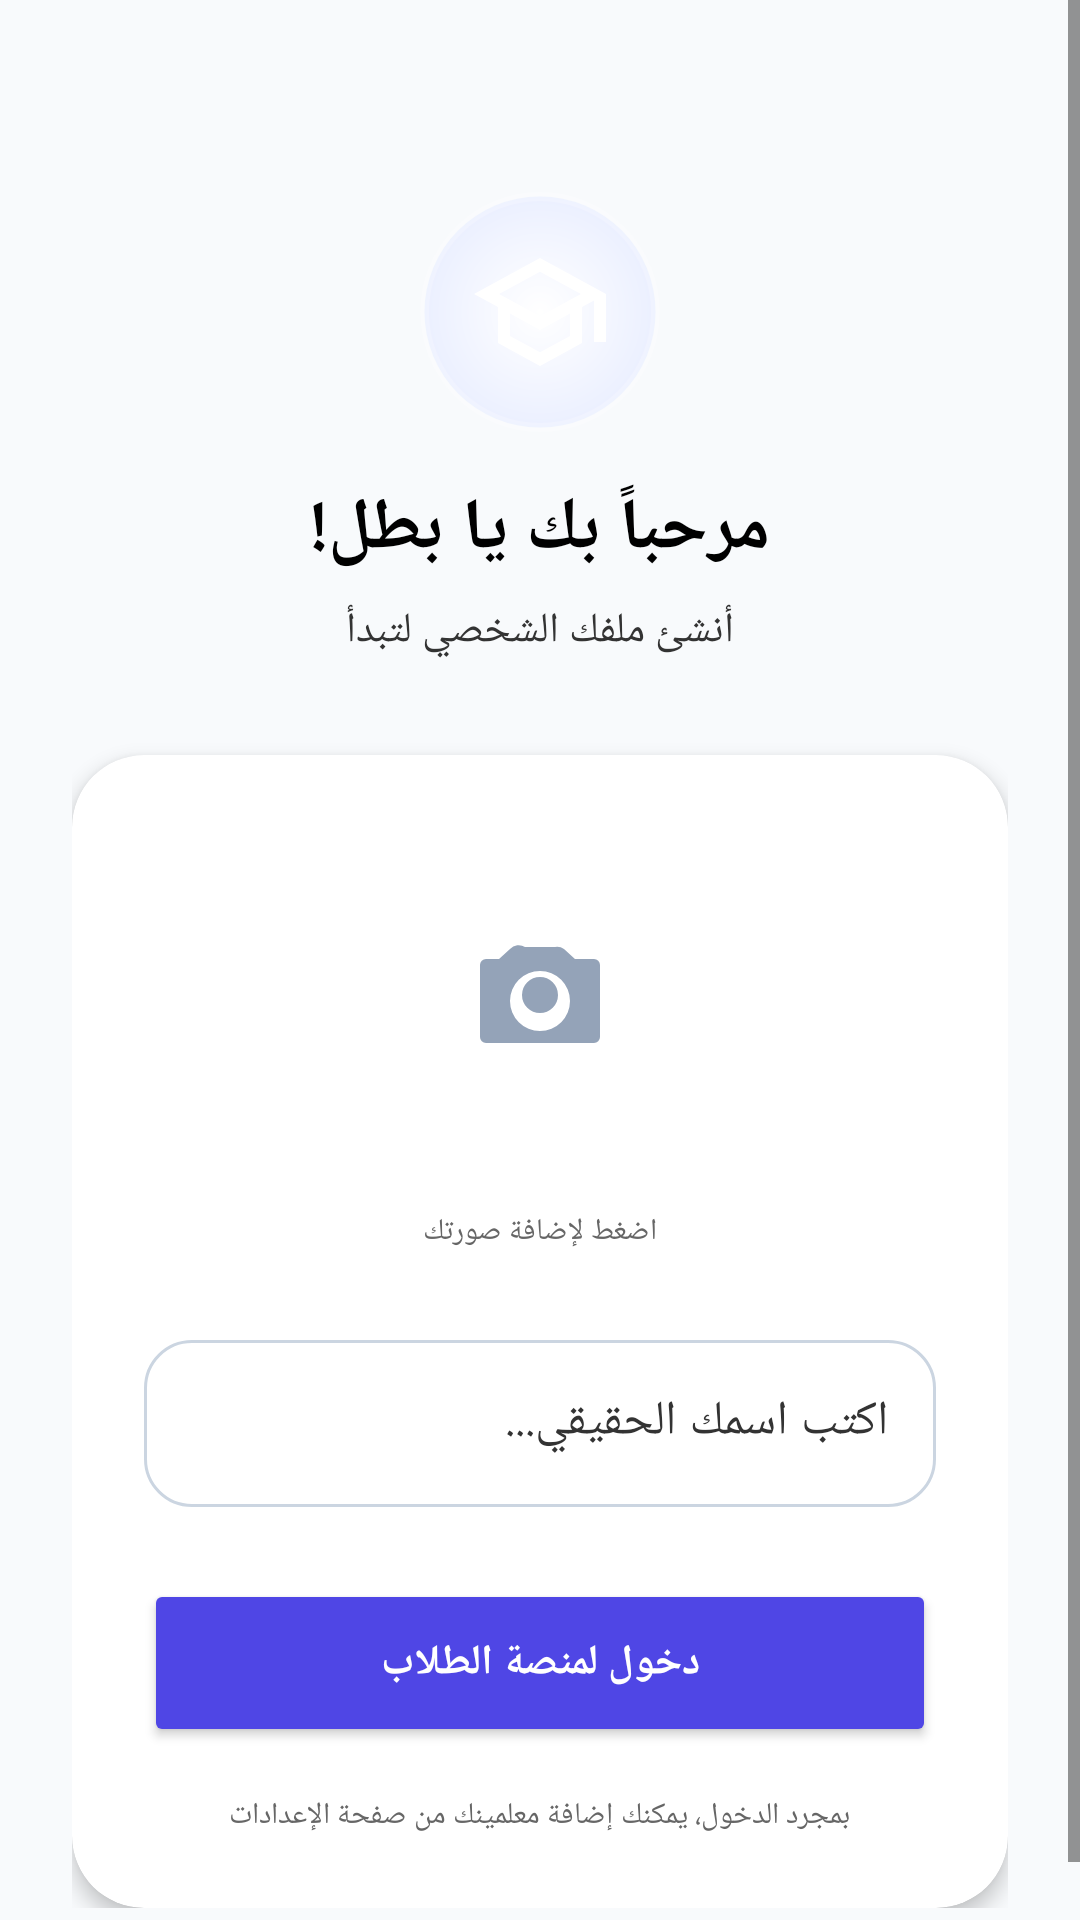

Where to tap for icons on this 1080 × 1920 app screen, as (x=x, y=y):
camera: (x=540, y=994)
